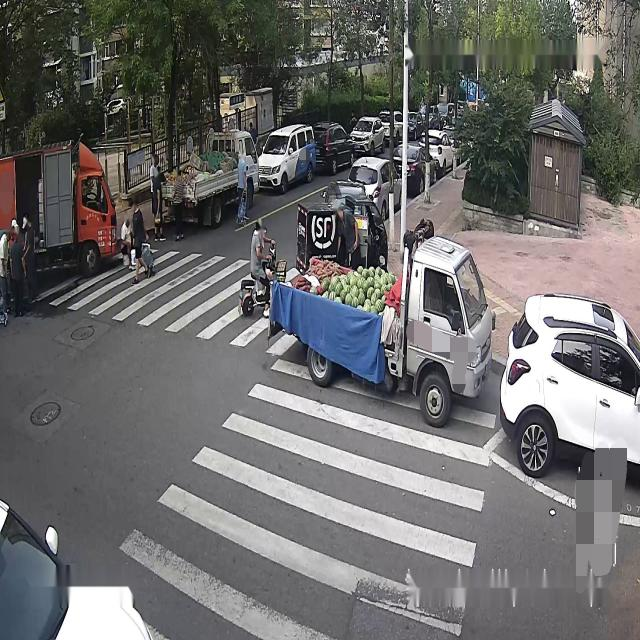car: (266, 224, 497, 433), (160, 127, 263, 227)
fixed_stall: (294, 253, 396, 314), (165, 149, 232, 184)
